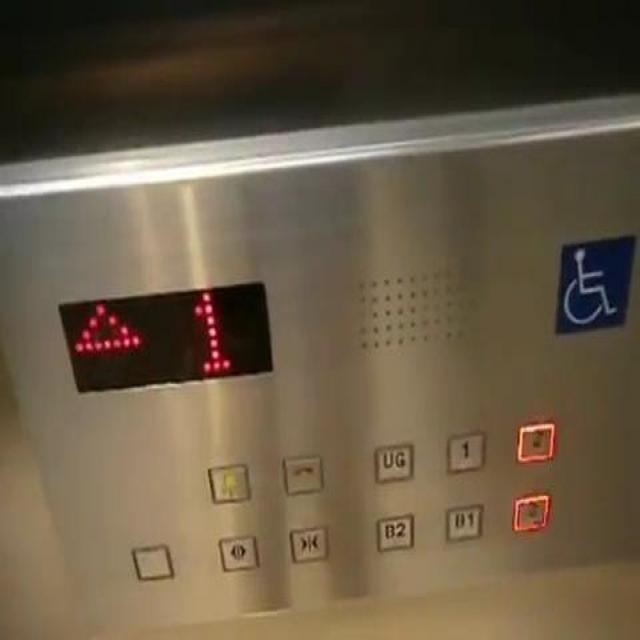1: (445, 431, 486, 473)
B1: (445, 500, 485, 543)
B2: (374, 512, 415, 555)
CH: (551, 226, 637, 334)
UG: (372, 441, 414, 483)
alarm: (206, 458, 251, 506)
blur: (515, 420, 556, 463), (130, 543, 175, 581), (513, 491, 549, 533)
call: (280, 453, 324, 496)
close: (287, 524, 331, 567)
led: (50, 275, 280, 393)
open: (216, 532, 259, 571)
